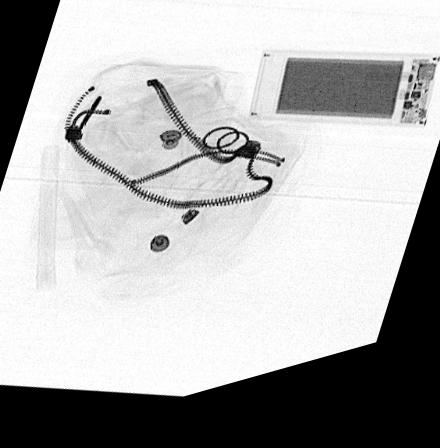Powerbank: (248, 63, 440, 151)
